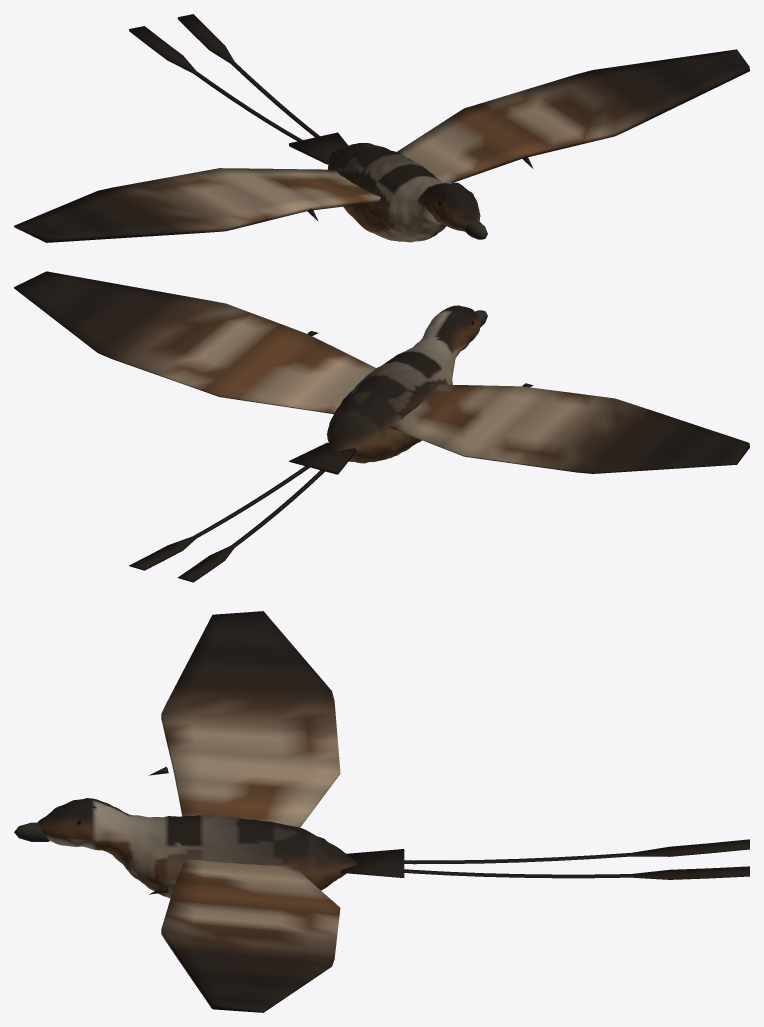
File: Confuciusornis.fbx
The picture shows the model from 3 angles, top to bottom: view 1: azimuth 30°, elevation 25°; view 2: azimuth 150°, elevation 25°; view 3: azimuth 270°, elevation 25°; orthographic projection. The views are drawn at different scales.
Parts seen in each view (by area): view 1: Confuciusornis; view 2: Confuciusornis; view 3: Confuciusornis.
Boxes of the visible parts, x1,y1,x2,y2 form: Confuciusornis: [14, 14, 749, 242]; Confuciusornis: [14, 271, 749, 582]; Confuciusornis: [14, 611, 749, 1012].
Size of the model in its own units: 1.48 by 0.1833 by 1.15.
